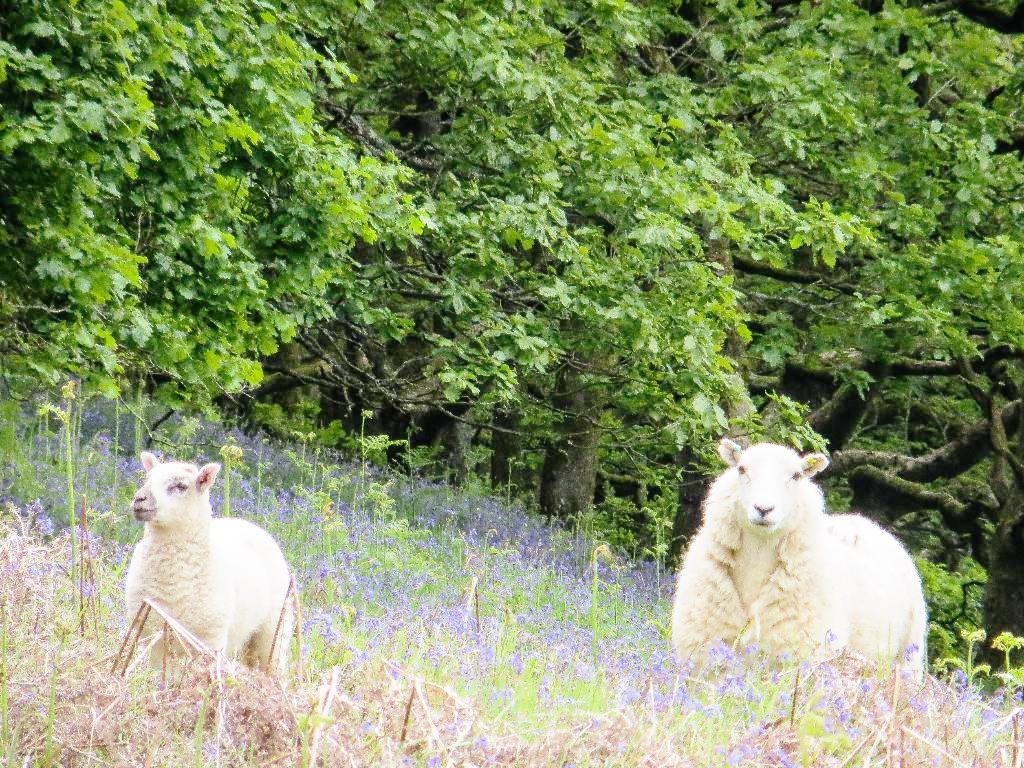Sheep: (668, 438, 926, 684), (123, 447, 296, 767)
